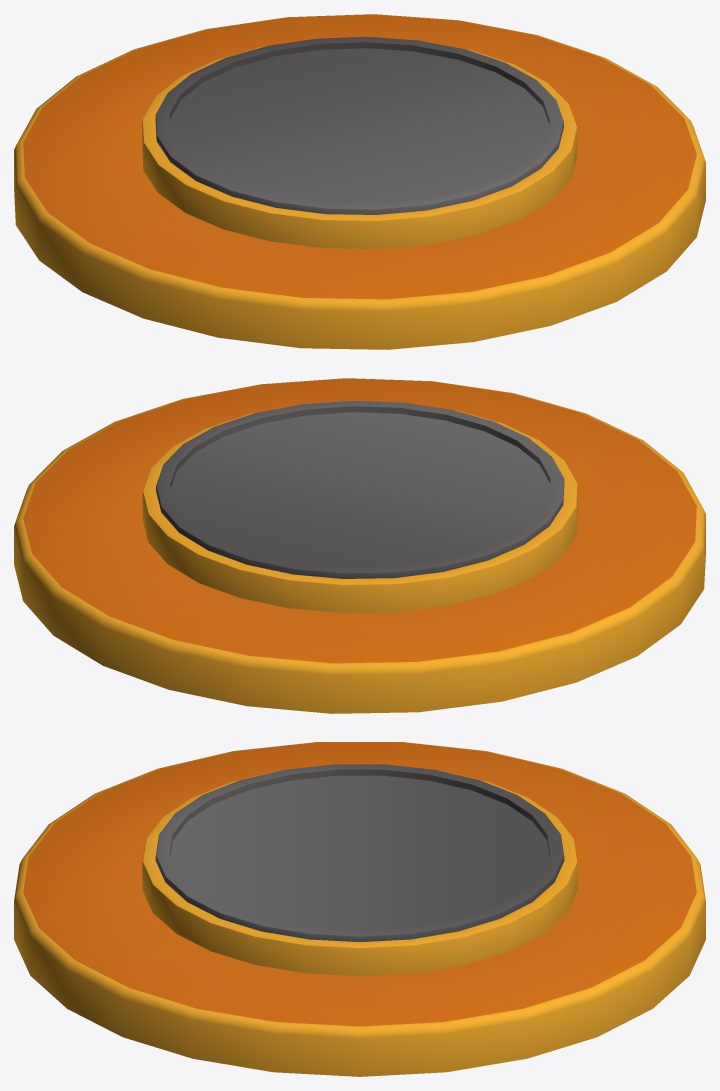
File: M_Jump_area.fbx
3 views of the same model, one above another, from view 1: azimuth 30°, elevation 25°; view 2: azimuth 150°, elevation 25°; view 3: azimuth 270°, elevation 25° (orthographic).
Visible parts, largest first — view 1: M_Jump_area_1; view 2: M_Jump_area_1; view 3: M_Jump_area_1.
Part boxes in pixels (x1,y1,x2,y2): M_Jump_area_1: [14, 14, 705, 349]; M_Jump_area_1: [14, 378, 705, 713]; M_Jump_area_1: [14, 742, 705, 1076].
Size of the model in its own units: 2293 by 296 by 2297.
